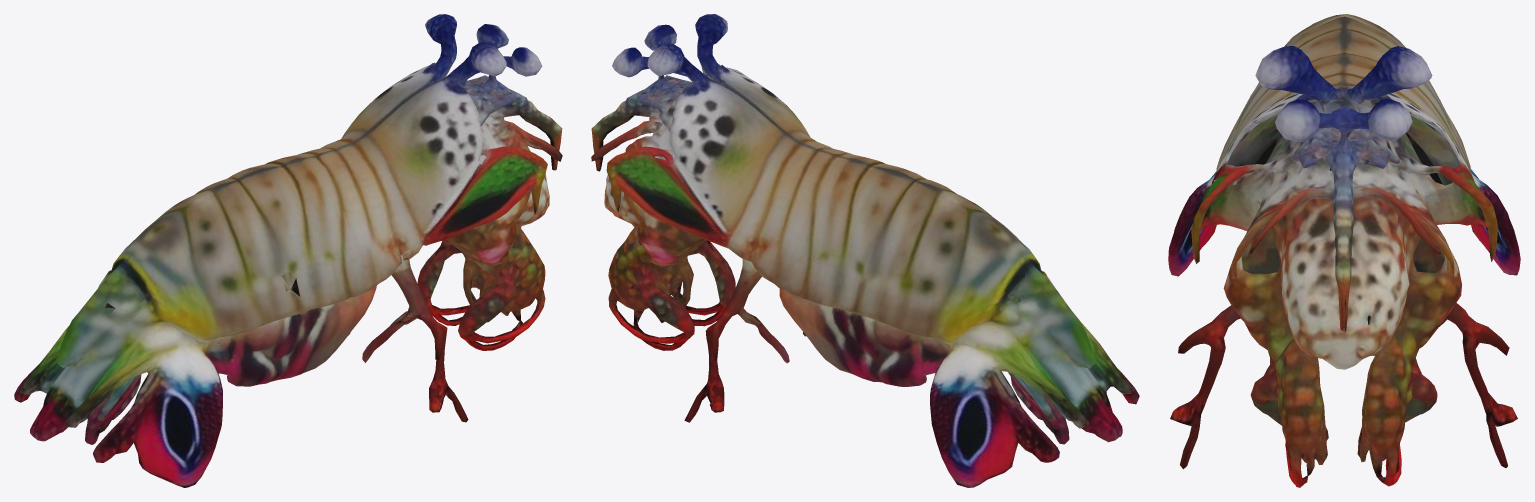
Rendered from mantis.glb.
3 views of the same model, side by side, from view 1: azimuth 30°, elevation 25°; view 2: azimuth 150°, elevation 25°; view 3: azimuth 270°, elevation 25° (orthographic). The views are drawn at different scales.
Visible parts, largest first — view 1: Stereo textured mesh; view 2: Stereo textured mesh; view 3: Stereo textured mesh.
Part boxes in pixels (<box>): Stereo textured mesh: <box>14,14,562,487</box>; Stereo textured mesh: <box>591,14,1139,487</box>; Stereo textured mesh: <box>1168,14,1520,487</box>.
Size of the model in its own units: 0.01 by 0.00608 by 0.00424.
Materials: 1 (1 with a texture image).
